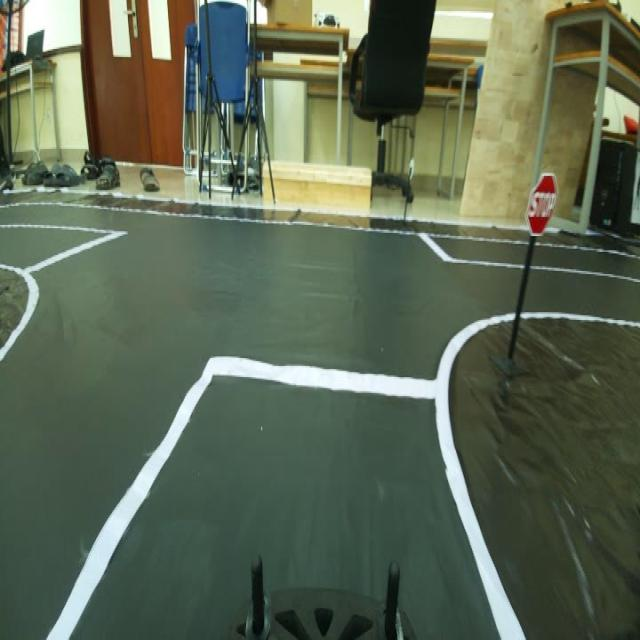stop: (527, 158, 558, 236)
